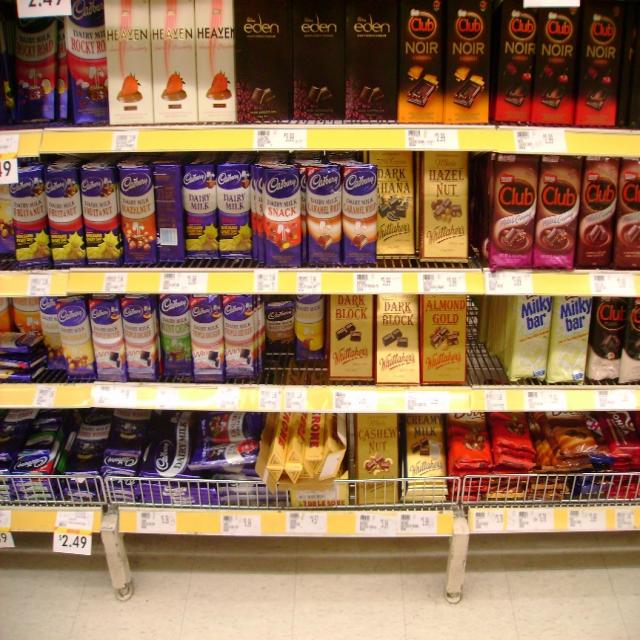q145: (83, 170, 122, 269), (11, 172, 49, 265), (217, 170, 251, 266), (49, 176, 82, 263), (184, 173, 217, 257)
q250: (108, 0, 152, 126), (153, 0, 194, 123), (196, 0, 236, 120)
